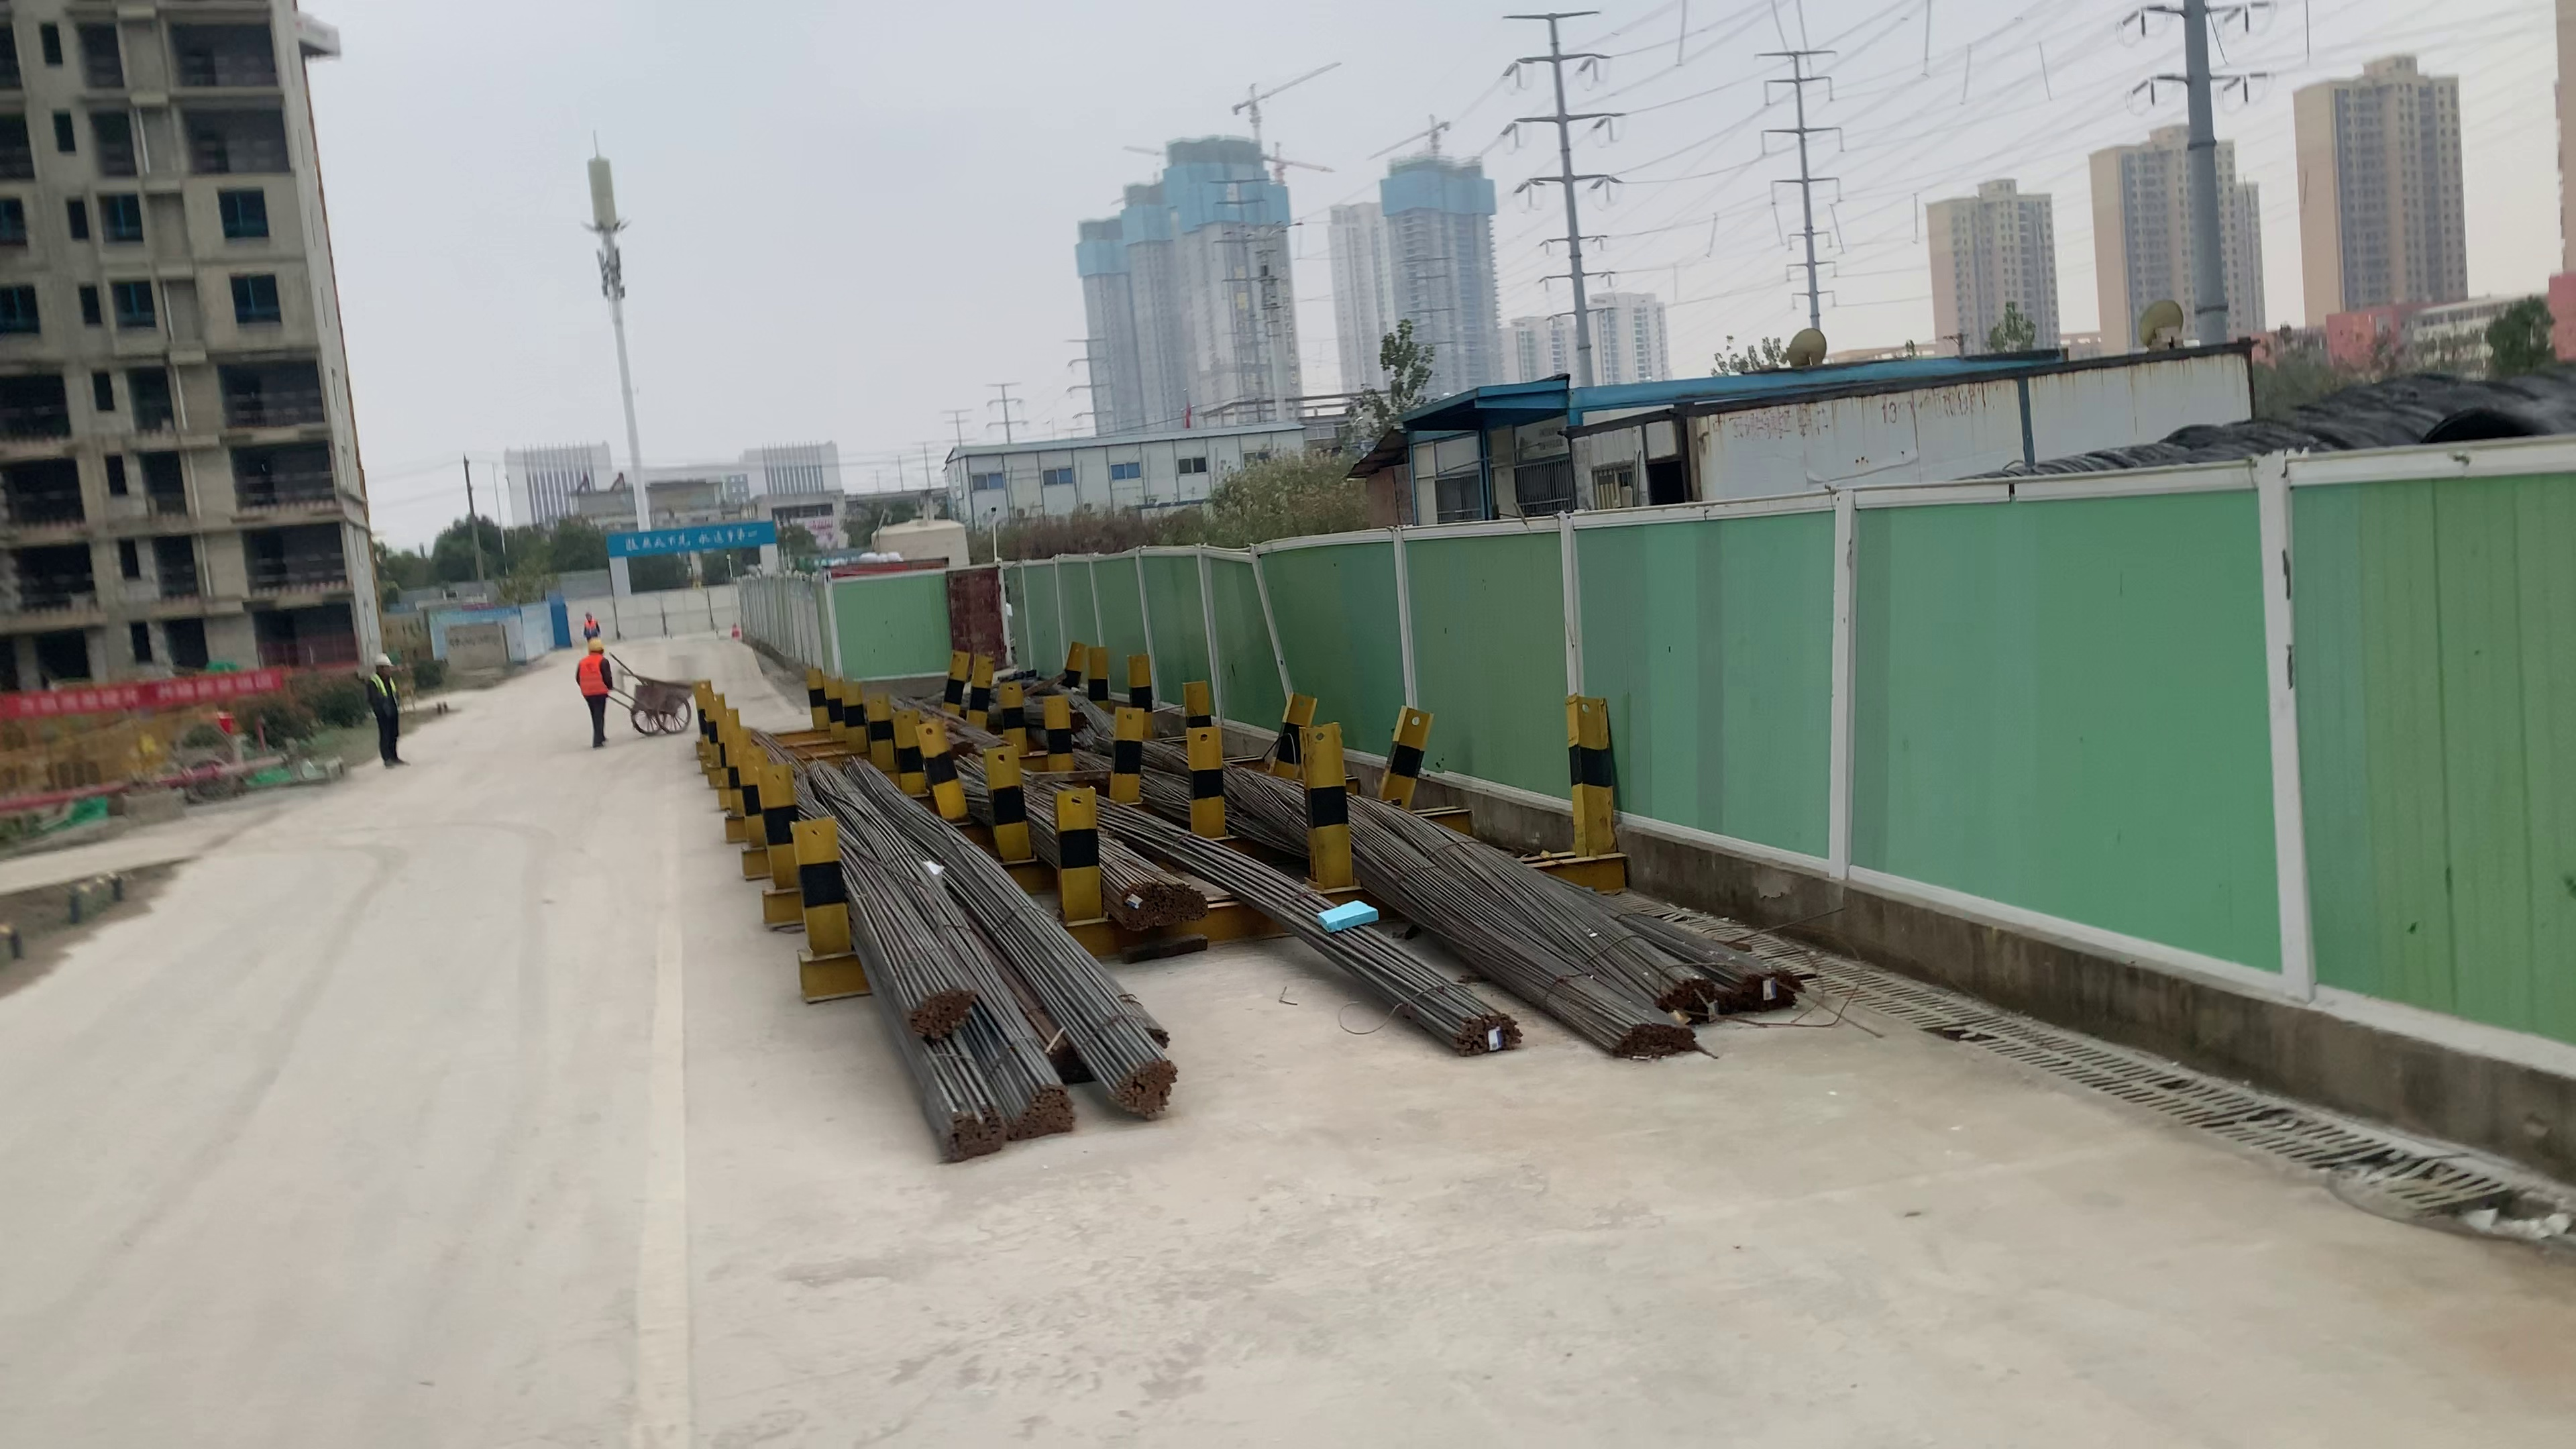rebar: (939, 1099, 1003, 1161), (1012, 1079, 1077, 1139), (1111, 1058, 1178, 1116), (1599, 1019, 1698, 1058), (911, 993, 977, 1046), (1730, 970, 1808, 1014), (1447, 1010, 1523, 1054), (1660, 968, 1718, 1016), (1122, 883, 1162, 931), (1168, 885, 1207, 929)
